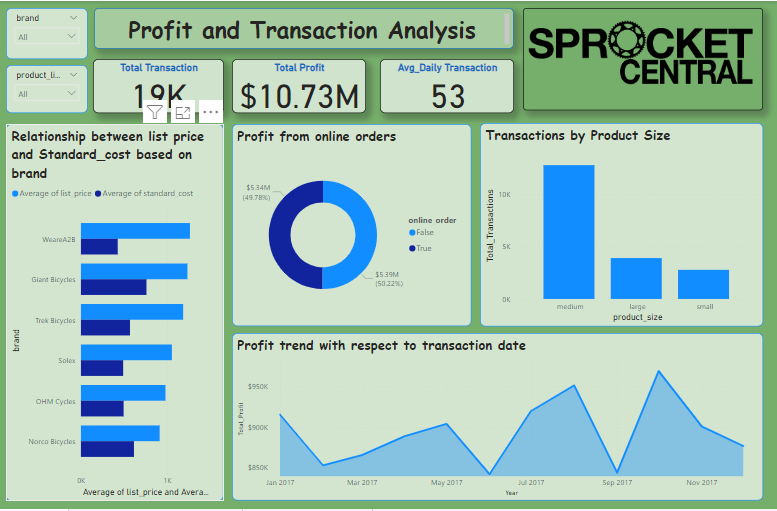

The page's visual inventory and layout, read from the dashboard file:
{"tool":"powerbi","page":{"name":"Transaction Dashboard","canvas":[1280,834],"ordinal":0},"visuals":[{"type":"card","title":"Total Transaction","fields":{"Values":["CustomerAddress.Total_Transactions"]},"box":[156,95.6,214.7,88.9],"z":0},{"type":"card","title":"Total Profit","fields":{"Values":["CustomerAddress.Total_Profit"]},"box":[384.2,95.6,219.8,88.9],"z":1000},{"type":"card","title":"Avg_Daily Transaction","fields":{"Values":["CustomerAddress.Avg_Daily_Transactions"]},"box":[627.4,95.6,219.8,88.9],"z":2000},{"type":"areaChart","title":"Profit trend with respect to transaction date","fields":{"Category":["Transactions.transaction_date.Variation.Date Hierarchy.Year","Transactions.transaction_date.Variation.Date Hierarchy.Quarter","Transactions.transaction_date.Variation.Date Hierarchy.Month"],"Y":["CustomerAddress.Total_Profit"]},"box":[384.2,545.2,872.3,275.1],"z":3000},{"type":"clusteredBarChart","title":"Relationship between list price and Standard_cost based on brand","fields":{"Category":["Transactions.brand"],"Y":["Avg(Transactions.list_price)","Avg(Transactions.standard_cost)"]},"box":[13.4,201.3,357.3,619],"z":4000},{"type":"donutChart","title":"Profit from online orders","fields":{"Category":["Transactions.online_order"],"Y":["CustomerAddress.Total_Profit"]},"box":[384.2,201.3,392.6,332.2],"z":5000},{"type":"clusteredColumnChart","title":"Transactions by Product Size","fields":{"Category":["Transactions.product_size"],"Y":["CustomerAddress.Total_Transactions"]},"box":[791.8,199.6,464.7,333.8],"z":6000},{"type":"image","box":[862.3,11.7,394.2,167.8],"z":7000},{"type":"slicer","fields":{"Values":["Transactions.brand"]},"box":[13.4,11.7,134.2,83.9],"z":8000},{"type":"slicer","fields":{"Values":["Transactions.product_line"]},"box":[13.4,105.7,134.2,78.8],"z":9000},{"type":"textbox","box":[157.7,11.7,689.5,67.1],"z":10000}]}

Visuals, with their boxes in screenshot pixels (x1, y1, x2, y2), scaled from the page's 1280x834 canvas onto the 777x511 screenshot:
"Total Transaction" card: (x1=95, y1=59, x2=225, y2=113)
"Total Profit" card: (x1=233, y1=59, x2=367, y2=113)
"Avg_Daily Transaction" card: (x1=381, y1=59, x2=514, y2=113)
"Profit trend with respect to transaction date" areaChart: (x1=233, y1=334, x2=763, y2=503)
"Relationship between list price and Standard_cost based on brand" clusteredBarChart: (x1=8, y1=123, x2=225, y2=503)
"Profit from online orders" donutChart: (x1=233, y1=123, x2=472, y2=327)
"Transactions by Product Size" clusteredColumnChart: (x1=481, y1=122, x2=763, y2=327)
image: (x1=523, y1=7, x2=763, y2=110)
slicer - Transactions.brand: (x1=8, y1=7, x2=90, y2=59)
slicer - Transactions.product_line: (x1=8, y1=65, x2=90, y2=113)
textbox: (x1=96, y1=7, x2=514, y2=48)
